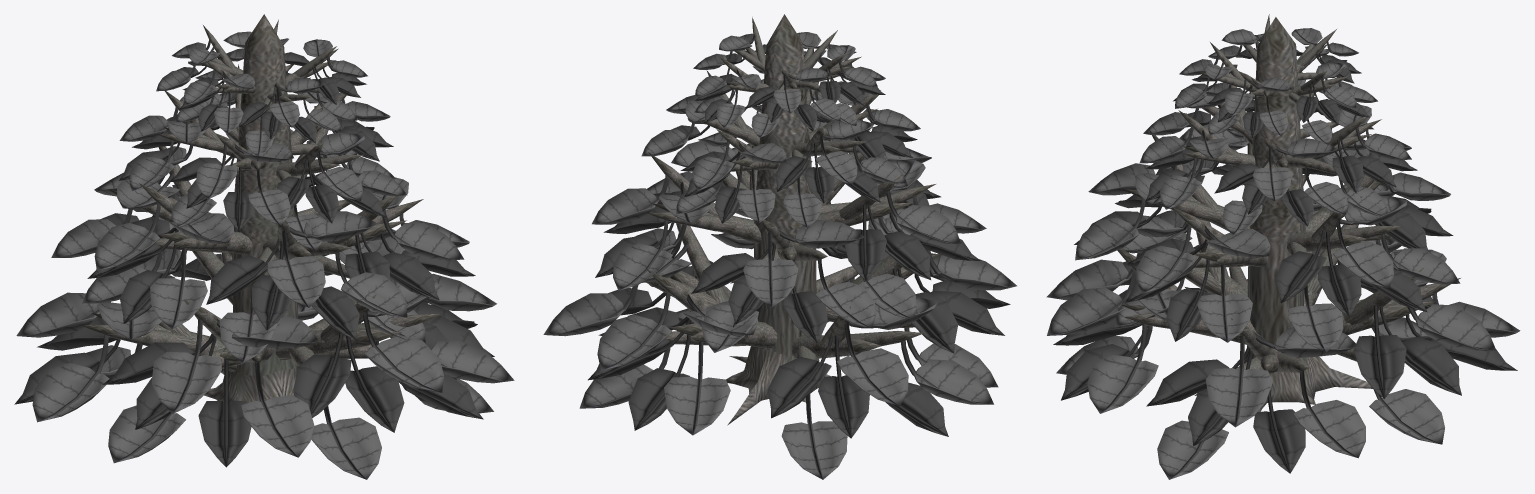
The model's file is BetterBush.dae.
The picture shows the model from 3 angles, left to right: view 1: azimuth 30°, elevation 25°; view 2: azimuth 150°, elevation 25°; view 3: azimuth 270°, elevation 25°; orthographic projection. The views are drawn at different scales.
Visible parts, largest first — view 1: Plane_017; view 2: Plane_017; view 3: Plane_017.
Part boxes in pixels (<box>): Plane_017: <box>14,14,514,479</box>; Plane_017: <box>543,14,1016,479</box>; Plane_017: <box>1046,14,1520,479</box>.
Bounding box in the file's own units: 1.24 × 1.19 × 1.06.
3 materials, 3 textured.
